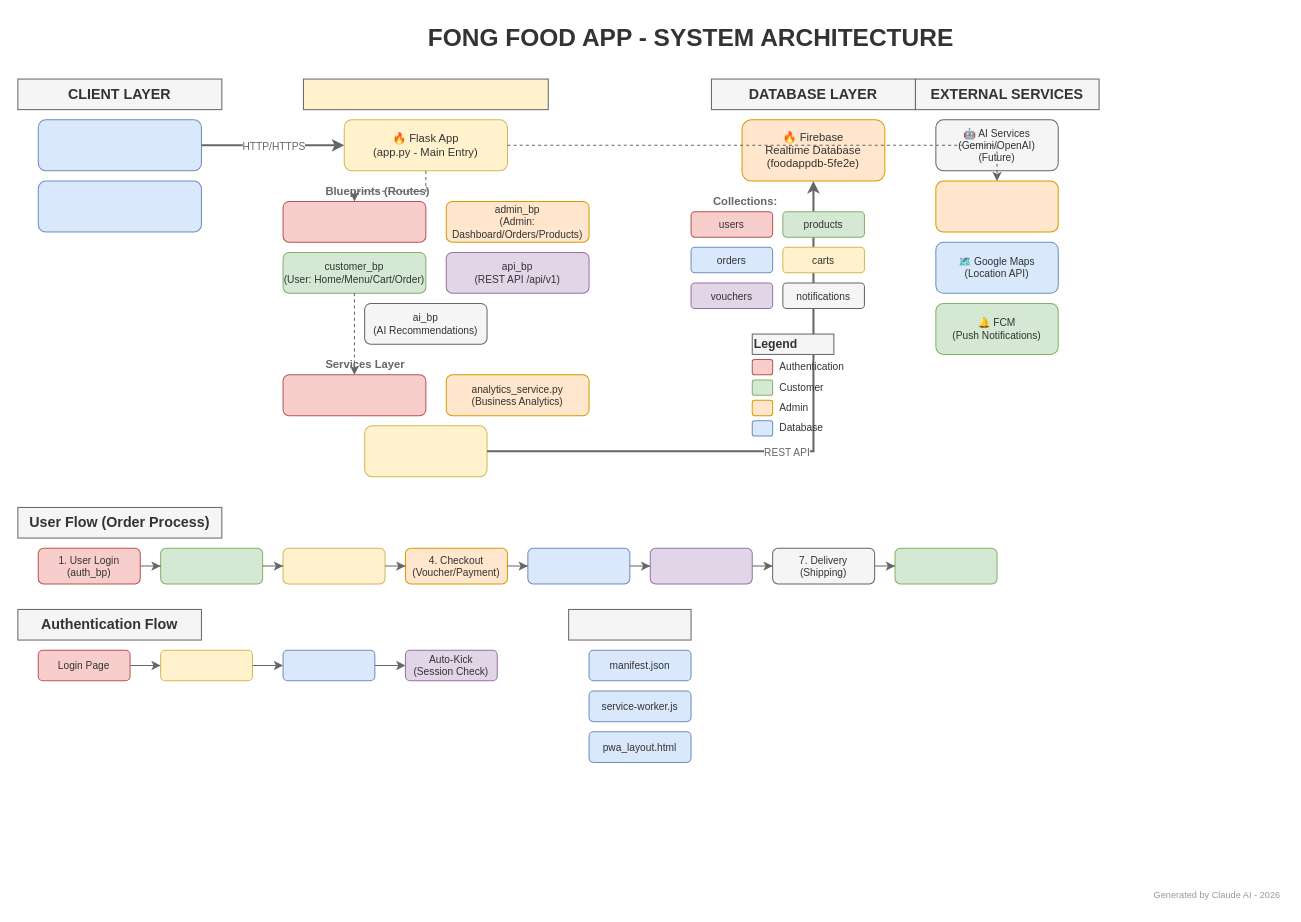
This 1301x922 diagram has some shape labels left out. The centre of each missing label's shape, as x and y in pixels:
"2. Browse Menu (customer_bp)" belongs at (x=211, y=565).
"3. Add to Cart (db_put)" belongs at (x=333, y=565).
"5. Create Order (db_put)" belongs at (x=578, y=565).
"6. Admin Process (admin_bp)" belongs at (x=700, y=565).
"8. Complete (Notifications)" belongs at (x=945, y=565).
"auth_bp (Đăng nhập/Đăng ký/OTP)" belongs at (x=354, y=221).
"auth_service.py (Authentication Logic)" belongs at (x=354, y=395).
"Login Token (db_patch)" belongs at (x=328, y=665).
"PWA Support" belongs at (x=629, y=624).
"SERVER LAYER (Flask Backend)" belongs at (x=425, y=94).
"Session + Token" belongs at (x=206, y=665).
"utils.py (Firebase: db_get, db_put, db_patch)" belongs at (x=425, y=451).
"🌐 Web Browser (HTML/CSS/JS + PWA)" belongs at (x=119, y=145).
"💳 Payment Gateways (VNPay/MoMo/ZaloPay)" belongs at (x=996, y=206).
"📱 Mobile App (PWA / REST API)" belongs at (x=119, y=206).
